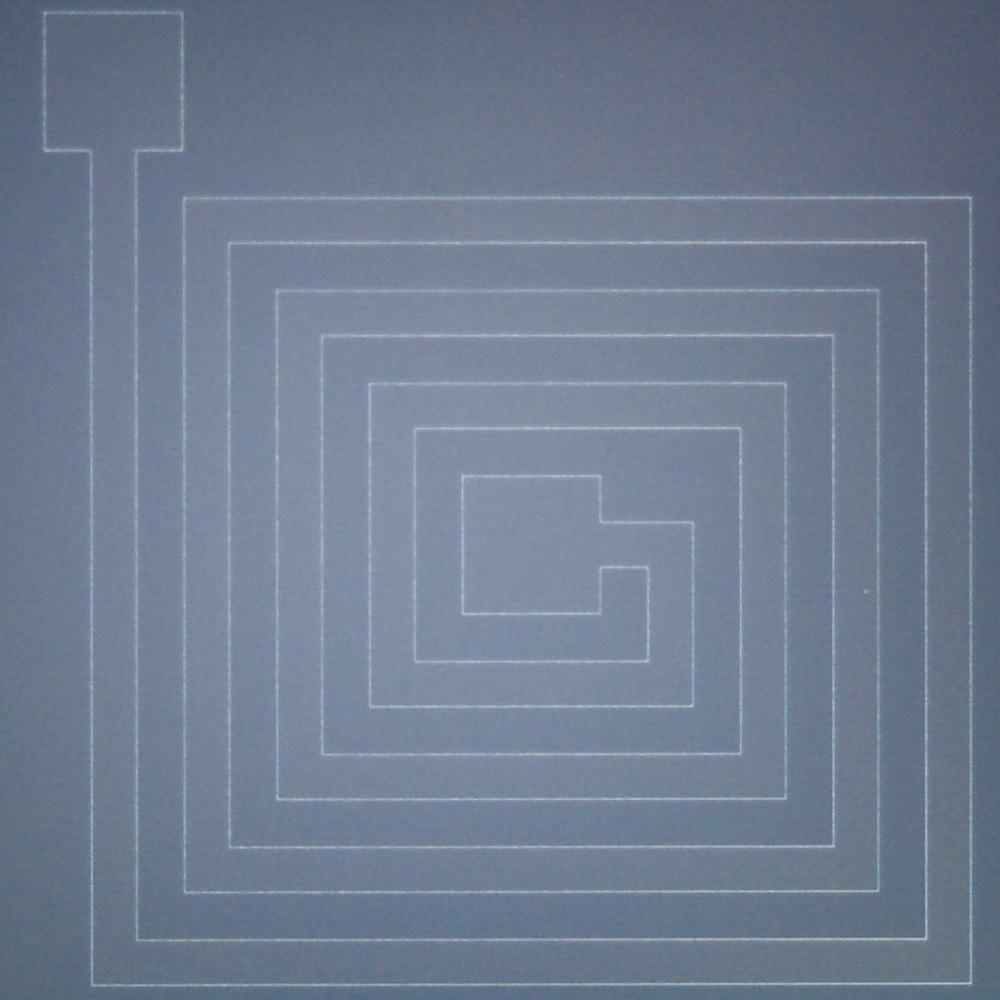dot: (863, 589, 868, 594)
